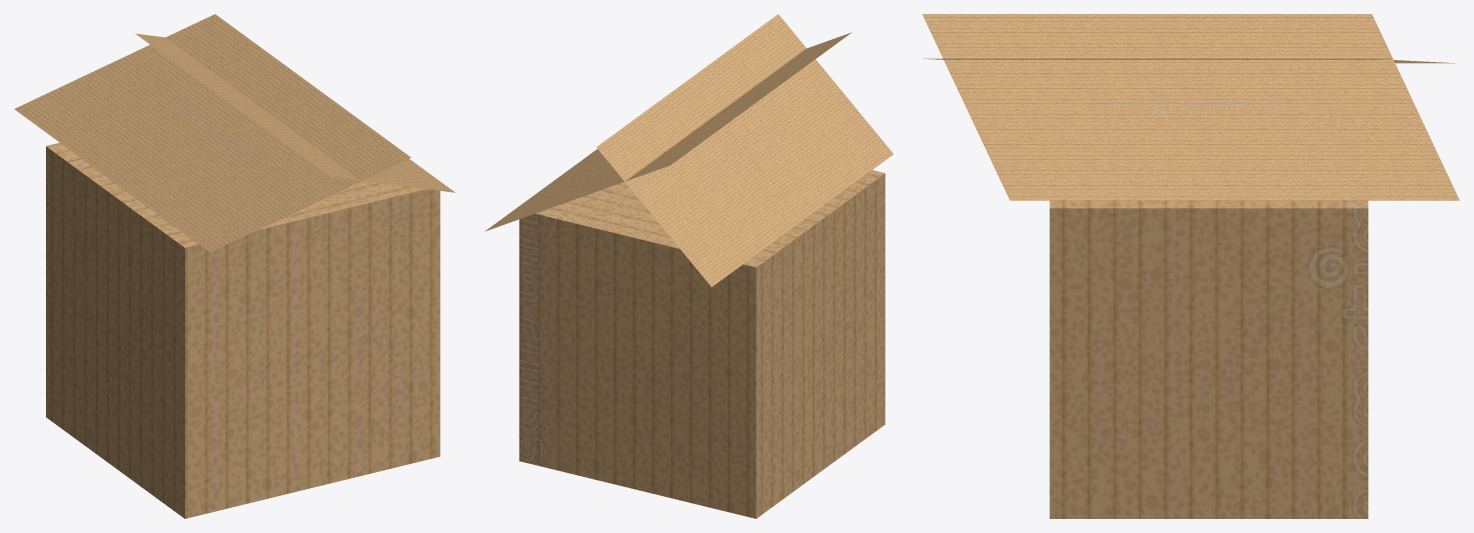
The model's file is SandyTreedome-boxwithflaps.glb.
3 renders of one model, left to right at view 1: azimuth 30°, elevation 25°; view 2: azimuth 150°, elevation 25°; view 3: azimuth 270°, elevation 25°, orthographic. The views are drawn at different scales.
Parts seen in each view (by area): view 1: basement_pushbox; view 2: basement_pushbox; view 3: basement_pushbox.
Part boxes in pixels (x1,y1,x2,y2): basement_pushbox: (14,14,455,518); basement_pushbox: (485,14,893,518); basement_pushbox: (922,14,1459,518).
Bounding box in the file's own units: 0.5881 × 0.7928 × 0.9358.
Materials: 2 (2 with a texture image).
